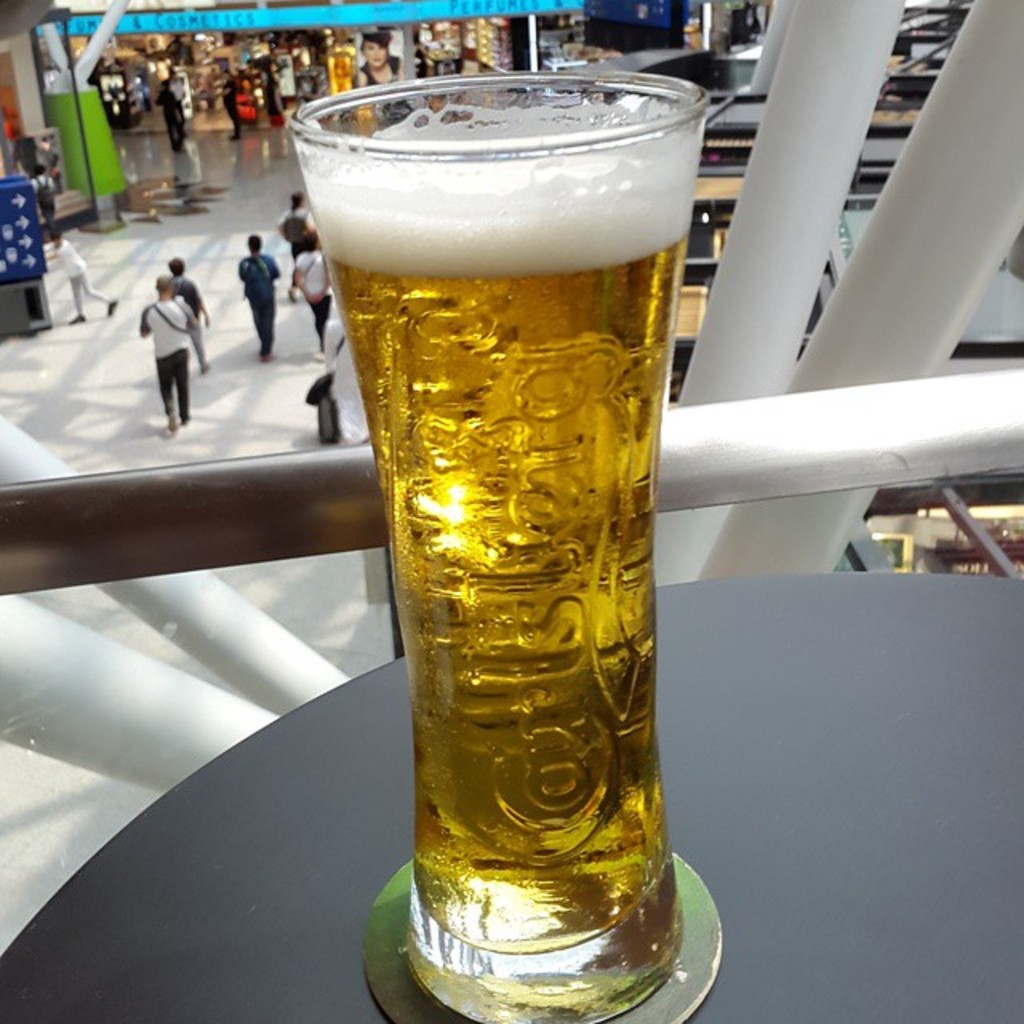Beer: (310, 120, 700, 944)
